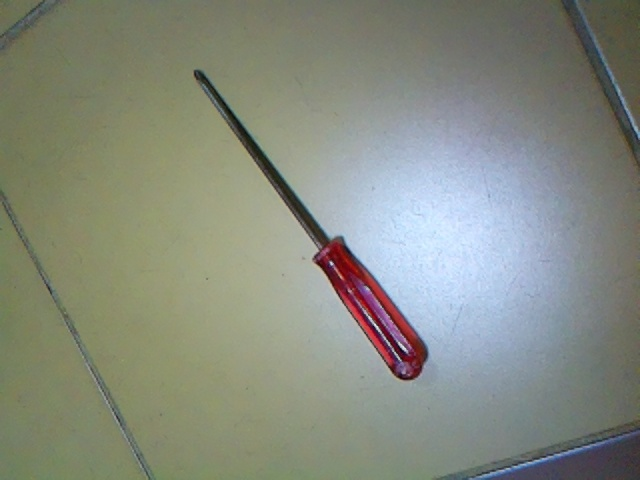redskrew: (183, 71, 433, 394)
